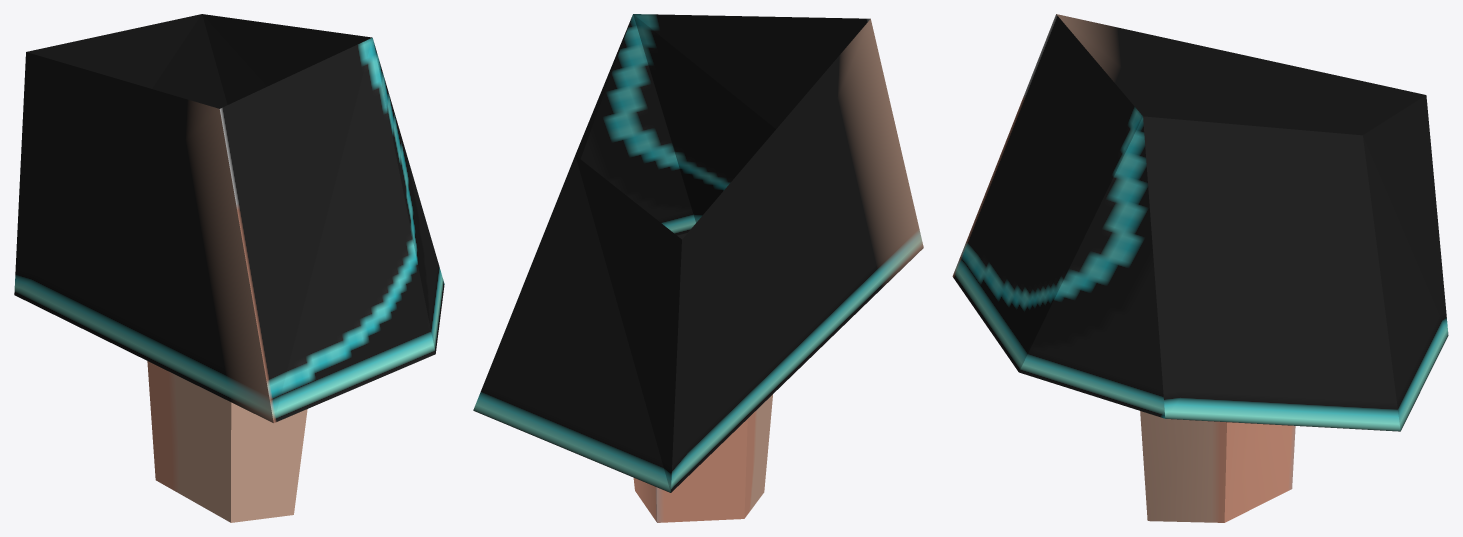
Rendered from 13_LEG_LEFT_TOP.obj.
The picture shows the model from 3 angles, left to right: view 1: azimuth 30°, elevation 25°; view 2: azimuth 150°, elevation 25°; view 3: azimuth 270°, elevation 25°; orthographic projection. The views are drawn at different scales.
Visible parts, largest first — view 1: 13_LEG_LEFT_TOP; view 2: 13_LEG_LEFT_TOP; view 3: 13_LEG_LEFT_TOP.
Part boxes in pixels (bbox=[...]): 13_LEG_LEFT_TOP: bbox=[14, 14, 444, 522]; 13_LEG_LEFT_TOP: bbox=[473, 14, 923, 522]; 13_LEG_LEFT_TOP: bbox=[952, 14, 1448, 522].
Size of the model in its own units: 0.2471 by 0.394 by 0.3935.
Materials: 1 (1 with a texture image).
